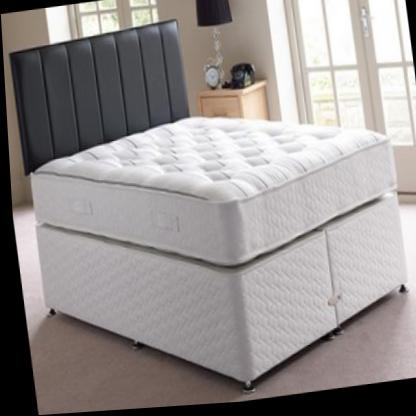Bed: (5, 0, 416, 416)
